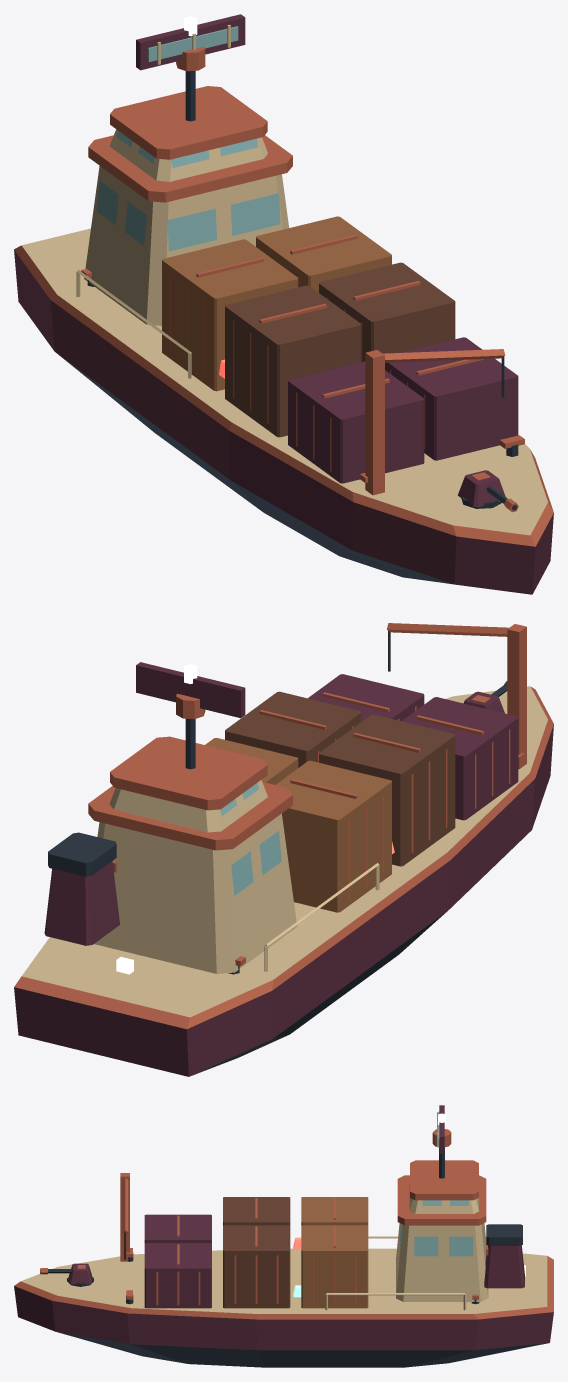
Rendered from cargo-ship-enemy.glb.
3 views of the same model, one above another, from view 1: azimuth 30°, elevation 25°; view 2: azimuth 150°, elevation 25°; view 3: azimuth 270°, elevation 25° (orthographic). The views are drawn at different scales.
Visible parts, largest first — view 1: hull, radar, turret; view 2: hull, funnel, radar; view 3: hull, funnel, turret, radar.
Part boxes in pixels (bbox=[...]): hull: bbox=[14, 71, 553, 594]; radar: bbox=[136, 14, 245, 71]; turret: bbox=[457, 470, 505, 508]; hull: bbox=[14, 623, 553, 1076]; funnel: bbox=[44, 832, 119, 945]; radar: bbox=[136, 662, 245, 719]; hull: bbox=[14, 1147, 553, 1367]; funnel: bbox=[484, 1224, 524, 1288]; turret: bbox=[67, 1263, 93, 1286]; radar: bbox=[432, 1105, 451, 1153].
Bounding box in the file's own units: 2.03 × 3.27 × 6.9.
